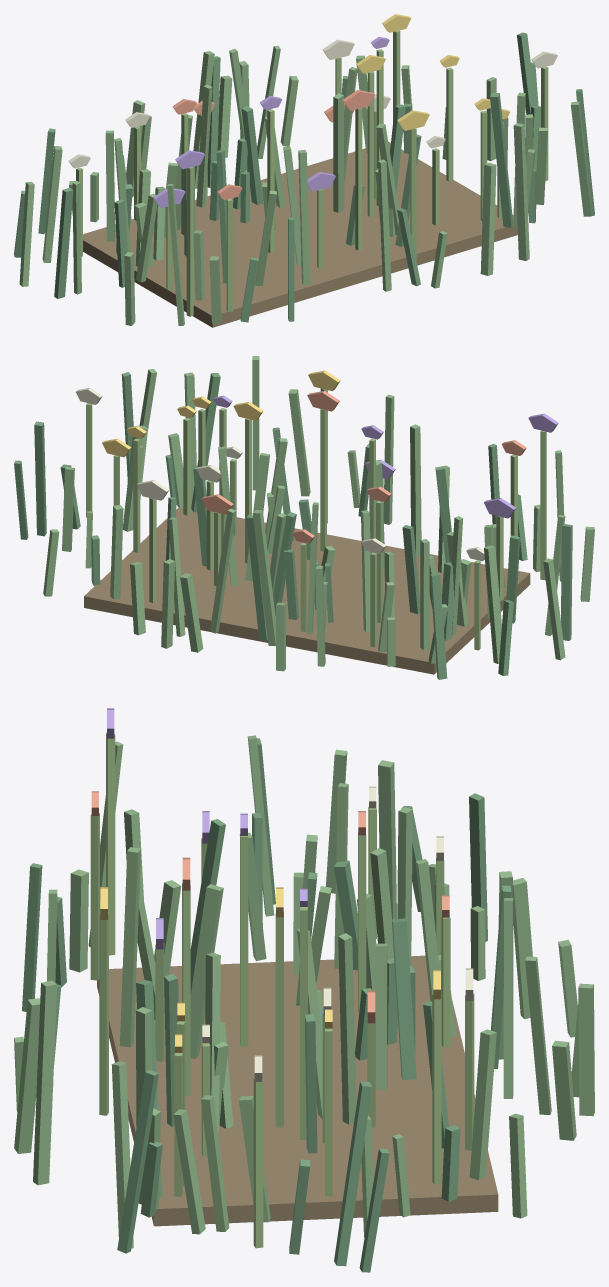
Rendered from granular_wildflowers.glb.
3 views of the same model, one above another, from view 1: azimuth 30°, elevation 25°; view 2: azimuth 150°, elevation 25°; view 3: azimuth 270°, elevation 25° (orthographic). The views are drawn at different scales.
Visible parts, largest first — view 1: soft_soil_patch, grass_blade_59, grass_blade_30, grass_blade_58, grass_blade_08, grass_blade_72, grass_blade_01, grass_blade_28, flower_stem_03, flower_stem_02, grass_blade_29, grass_blade_69 (+66 smaller); view 2: soft_soil_patch, grass_blade_71, grass_blade_01, grass_blade_35, grass_blade_72, grass_blade_42, grass_blade_10, grass_blade_58, grass_blade_51, grass_blade_26, grass_blade_11, grass_blade_21 (+69 smaller); view 3: soft_soil_patch, grass_blade_59, grass_blade_01, grass_blade_20, grass_blade_60, grass_blade_74, grass_blade_58, grass_blade_69, grass_blade_16, grass_blade_42, grass_blade_07, grass_blade_25 (+67 smaller).
Boxes of the visible parts, x1,y1,x2,y2 form: soft_soil_patch: (83, 141, 517, 327); grass_blade_59: (513, 123, 529, 260); grass_blade_30: (490, 92, 513, 227); grass_blade_58: (480, 162, 496, 275); grass_blade_08: (333, 93, 344, 212); grass_blade_72: (54, 187, 73, 298); grass_blade_01: (298, 149, 310, 285); grass_blade_28: (378, 159, 391, 291); flower_stem_03: (186, 167, 193, 316); flower_stem_02: (355, 108, 362, 250); grass_blade_29: (196, 84, 212, 207); grass_blade_69: (241, 105, 262, 204); soft_soil_patch: (84, 507, 530, 674); grass_blade_71: (252, 510, 275, 645); grass_blade_01: (410, 424, 421, 556); grass_blade_35: (484, 545, 501, 663); grass_blade_72: (561, 524, 572, 640); grass_blade_42: (34, 421, 46, 536); grass_blade_10: (210, 508, 236, 633); grass_blade_58: (288, 389, 310, 496); grass_blade_51: (430, 573, 447, 679); grass_blade_26: (420, 539, 429, 650); grass_blade_11: (543, 558, 565, 660); grass_blade_21: (246, 515, 267, 640); soft_soil_patch: (97, 955, 498, 1226); grass_blade_59: (33, 980, 57, 1185); grass_blade_01: (119, 847, 140, 1047); grass_blade_20: (338, 933, 356, 1124); grass_blade_60: (117, 1070, 158, 1253); grass_blade_74: (190, 884, 223, 1058); grass_blade_58: (14, 998, 40, 1153); grass_blade_69: (392, 918, 416, 1080); grass_blade_16: (469, 1029, 496, 1180); grass_blade_42: (334, 1081, 371, 1266); grass_blade_07: (111, 1061, 133, 1248); grass_blade_25: (578, 983, 594, 1116).
Size of the model in its own units: 2.16 by 0.7028 by 1.38.
